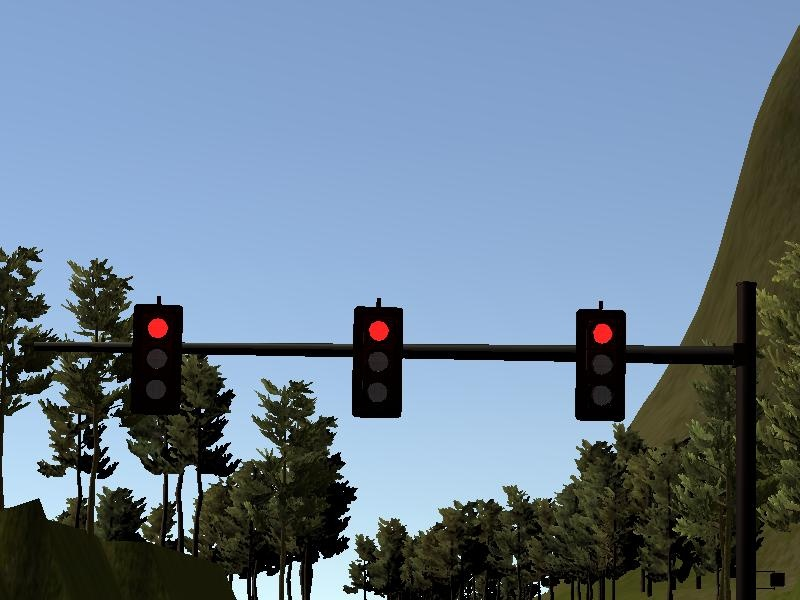red: (350, 302, 409, 425), (570, 302, 629, 424), (129, 297, 184, 415)
